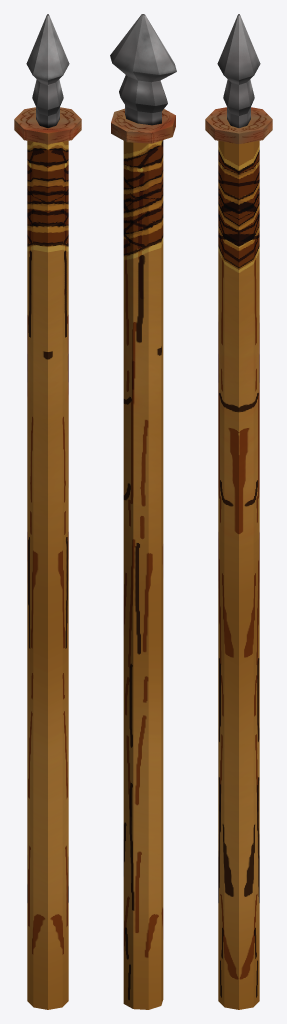
File: Spear.fbx
The picture shows the model from 3 angles, left to right: view 1: azimuth 90°, elevation 25°; view 2: azimuth 150°, elevation 25°; view 3: azimuth 270°, elevation 25°; orthographic projection.
Parts seen in each view (by area): view 1: Spear; view 2: Spear; view 3: Spear.
Part boxes in pixels (x1,y1,x2,y2): Spear: (14, 14, 81, 1009); Spear: (110, 14, 176, 1009); Spear: (205, 14, 272, 1009).
Size of the model in its own units: 22.2 by 313 by 19.38.
Materials: 1 (1 with a texture image).
